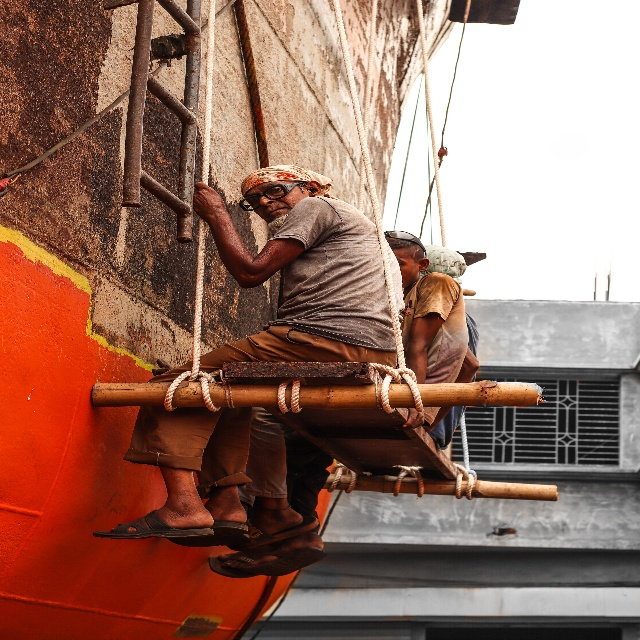Gafas: (239, 180, 302, 212)
Sin_guantes: (193, 182, 226, 223), (402, 408, 425, 432)
